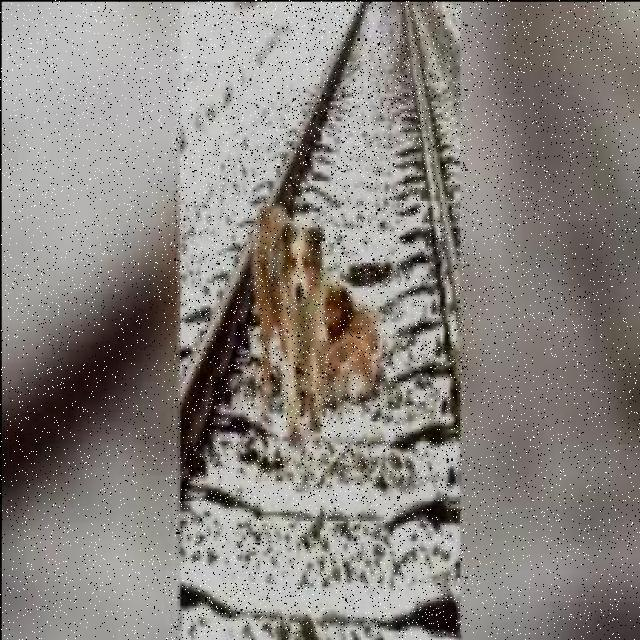danger: (243, 192, 400, 431)
rail: (174, 1, 467, 634)
